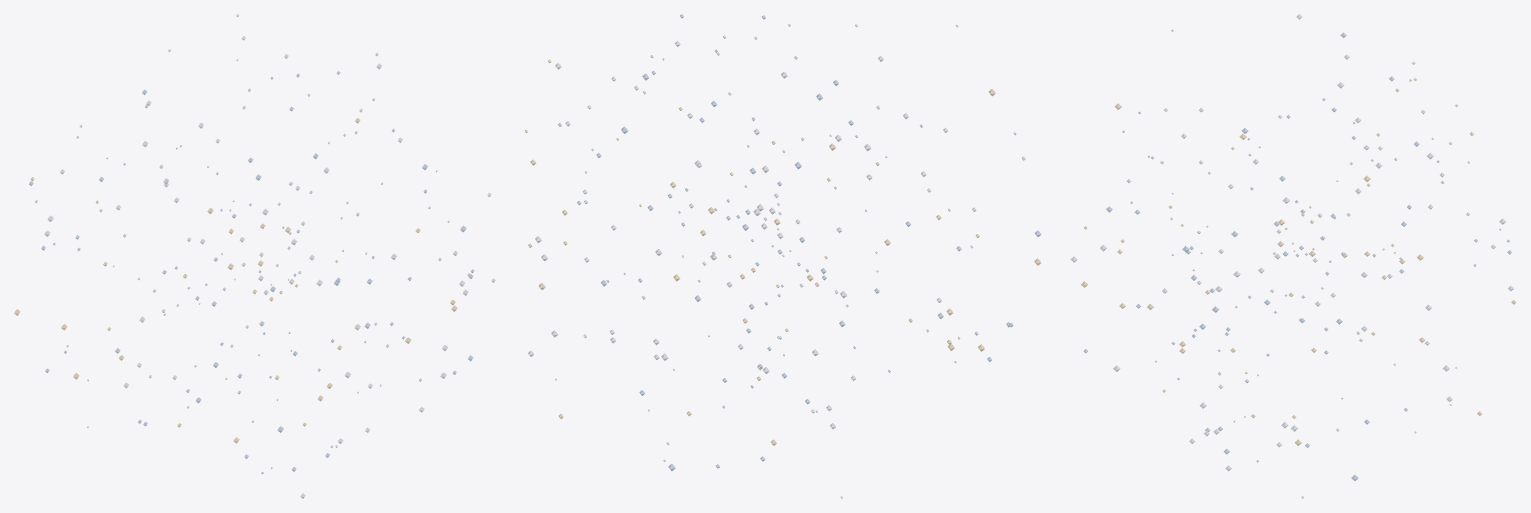
3 renders of one model, left to right at view 1: azimuth 30°, elevation 25°; view 2: azimuth 150°, elevation 25°; view 3: azimuth 270°, elevation 25°, orthographic. The views are drawn at different scales.
Size of the model in its own units: 5.1 by 4.5 by 4.55.
